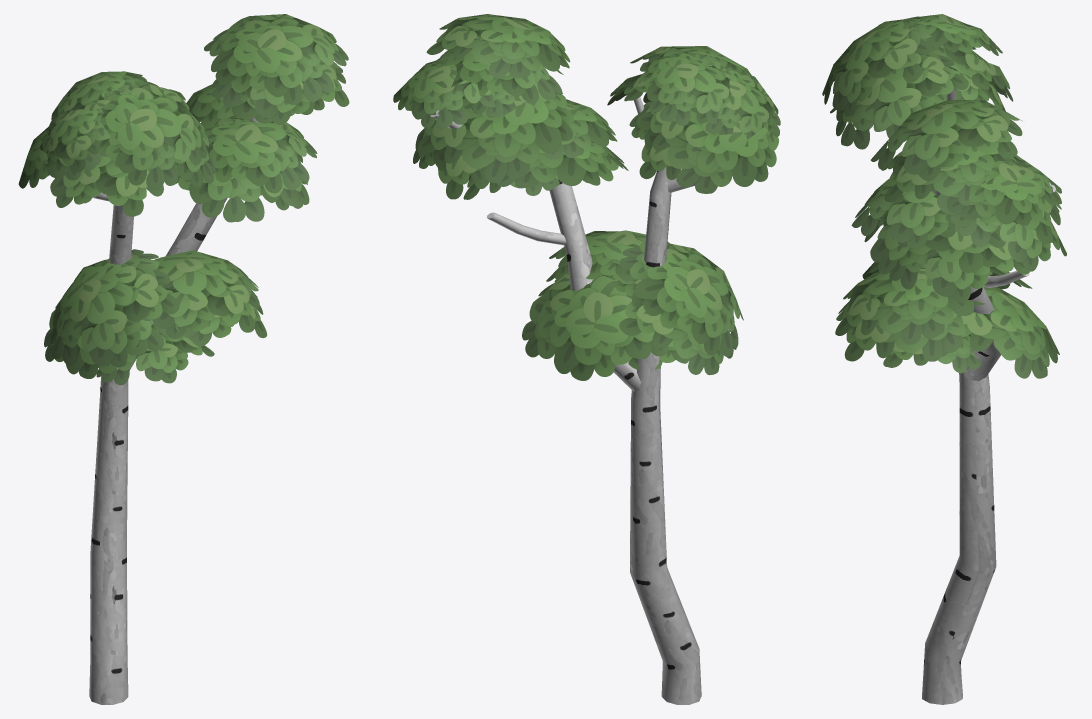
The model's file is Birch_4.gltf.
3 views of the same model, side by side, from view 1: azimuth 30°, elevation 25°; view 2: azimuth 150°, elevation 25°; view 3: azimuth 270°, elevation 25° (orthographic). The views are drawn at different scales.
Visible parts, largest first — view 1: Birch_2; view 2: Birch_2; view 3: Birch_2.
Boxes of the visible parts, box(x1,y1,x2,y2) form: Birch_2: box(18, 14, 349, 704); Birch_2: box(393, 14, 780, 704); Birch_2: box(822, 14, 1066, 704).
Size of the model in its own units: 5.11 by 8.94 by 3.06.
2 materials, 2 textured.
